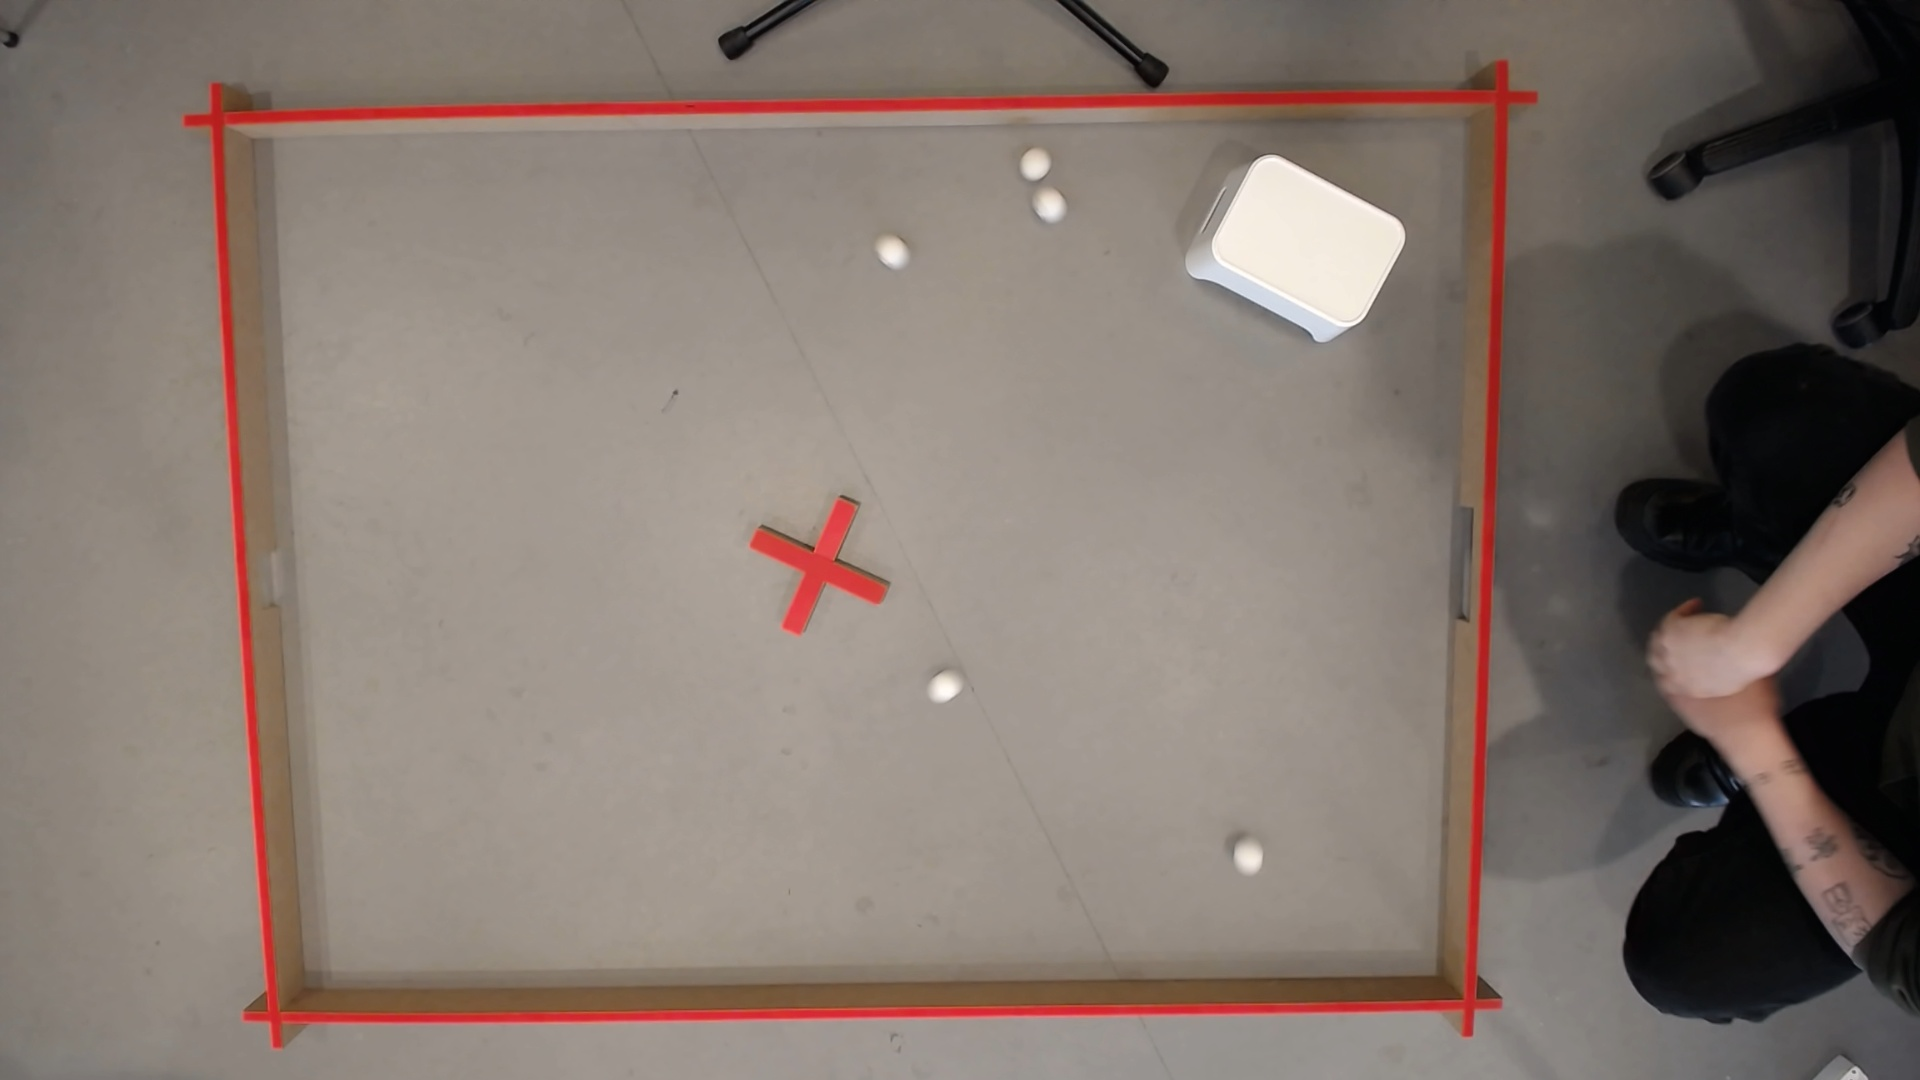balls: (1188, 144, 1412, 356), (1693, 633, 1776, 699), (926, 670, 963, 707), (1236, 847, 1261, 872), (1022, 153, 1047, 178), (1038, 193, 1062, 219)
car: (876, 236, 909, 270)
